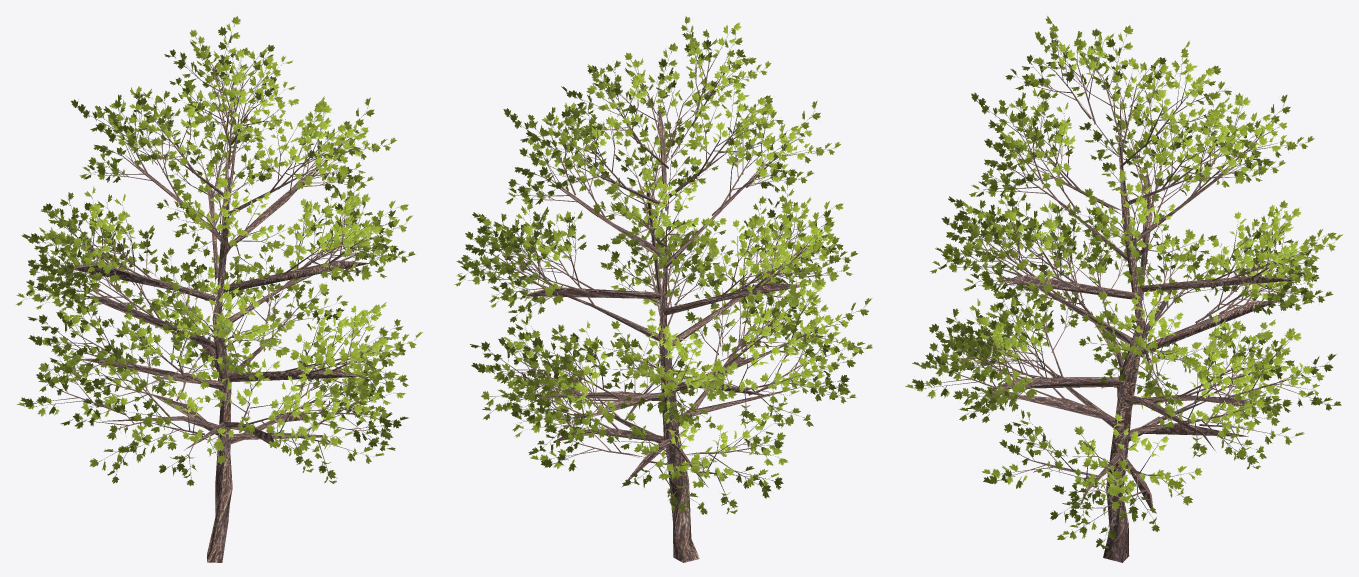
The model's file is maple-near.glb.
3 views of the same model, side by side, from view 1: azimuth 30°, elevation 25°; view 2: azimuth 150°, elevation 25°; view 3: azimuth 270°, elevation 25° (orthographic). The views are drawn at different scales.
Visible parts, largest first — view 1: Tree_1_Tree_1Mat_0, Tree_0_Tree_0Mat_0; view 2: Tree_1_Tree_1Mat_0, Tree_0_Tree_0Mat_0; view 3: Tree_1_Tree_1Mat_0, Tree_0_Tree_0Mat_0.
Part boxes in pixels (bbox=[...]): Tree_1_Tree_1Mat_0: bbox=[16, 16, 422, 485]; Tree_0_Tree_0Mat_0: bbox=[29, 34, 407, 562]; Tree_1_Tree_1Mat_0: bbox=[454, 16, 872, 514]; Tree_0_Tree_0Mat_0: bbox=[459, 32, 858, 562]; Tree_1_Tree_1Mat_0: bbox=[905, 16, 1342, 549]; Tree_0_Tree_0Mat_0: bbox=[917, 32, 1326, 562].
Size of the model in its own units: 7.9 by 10.47 by 7.86.
2 materials, 2 textured.
